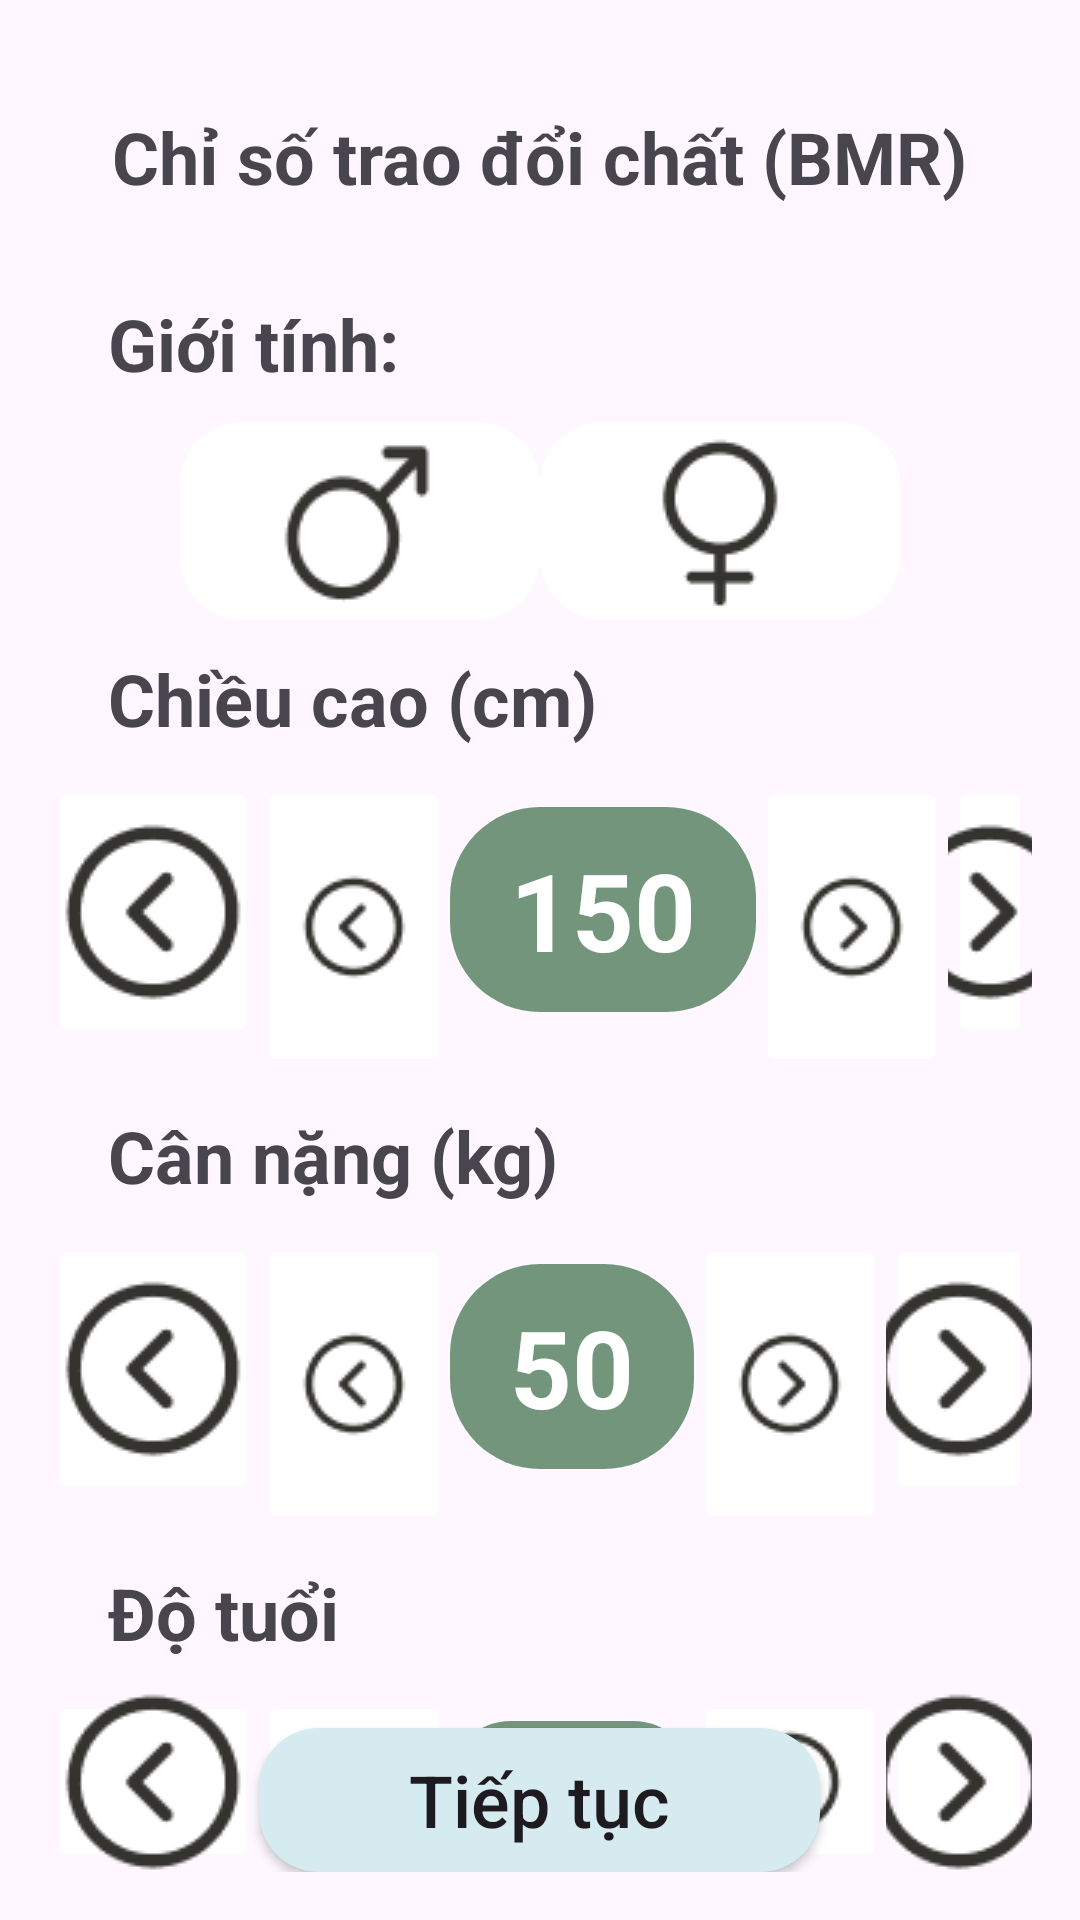

Named icons in this screenshot (1080×1920) and their bounding boxes, (x1, y1, x2, y2):
bigleft: (65, 824, 241, 1000), (65, 1281, 241, 1457), (60, 1694, 258, 1870)
genderfemale: (662, 440, 778, 606)
gendermale: (284, 445, 430, 601)
